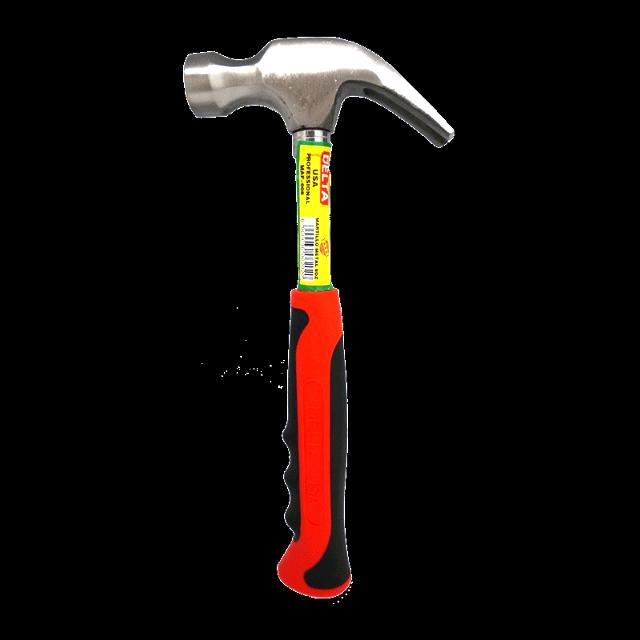hammer: (174, 24, 462, 608)
